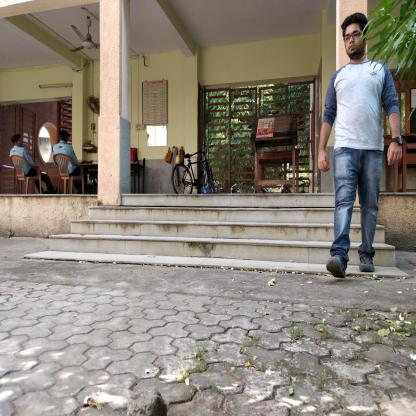stairs: (124, 193, 321, 267)
